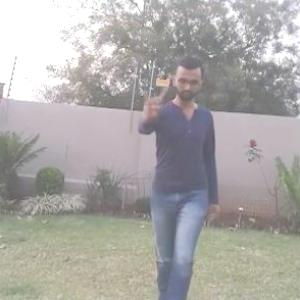takeoff-hand: (135, 84, 170, 122)
